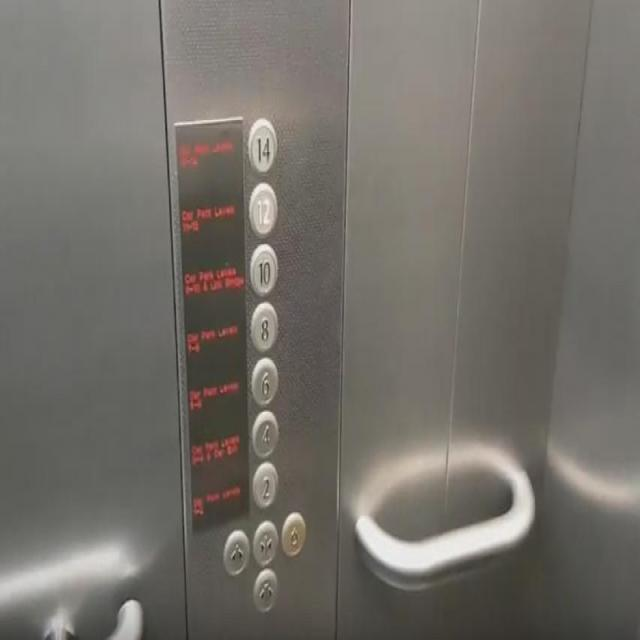10: (248, 241, 278, 296)
12: (248, 181, 277, 236)
14: (248, 117, 276, 171)
2: (252, 460, 278, 509)
4: (252, 408, 278, 457)
6: (250, 355, 278, 405)
8: (249, 299, 277, 353)
alarm: (279, 509, 306, 556)
close: (251, 516, 278, 567)
open: (222, 527, 250, 573), (253, 568, 277, 612)
